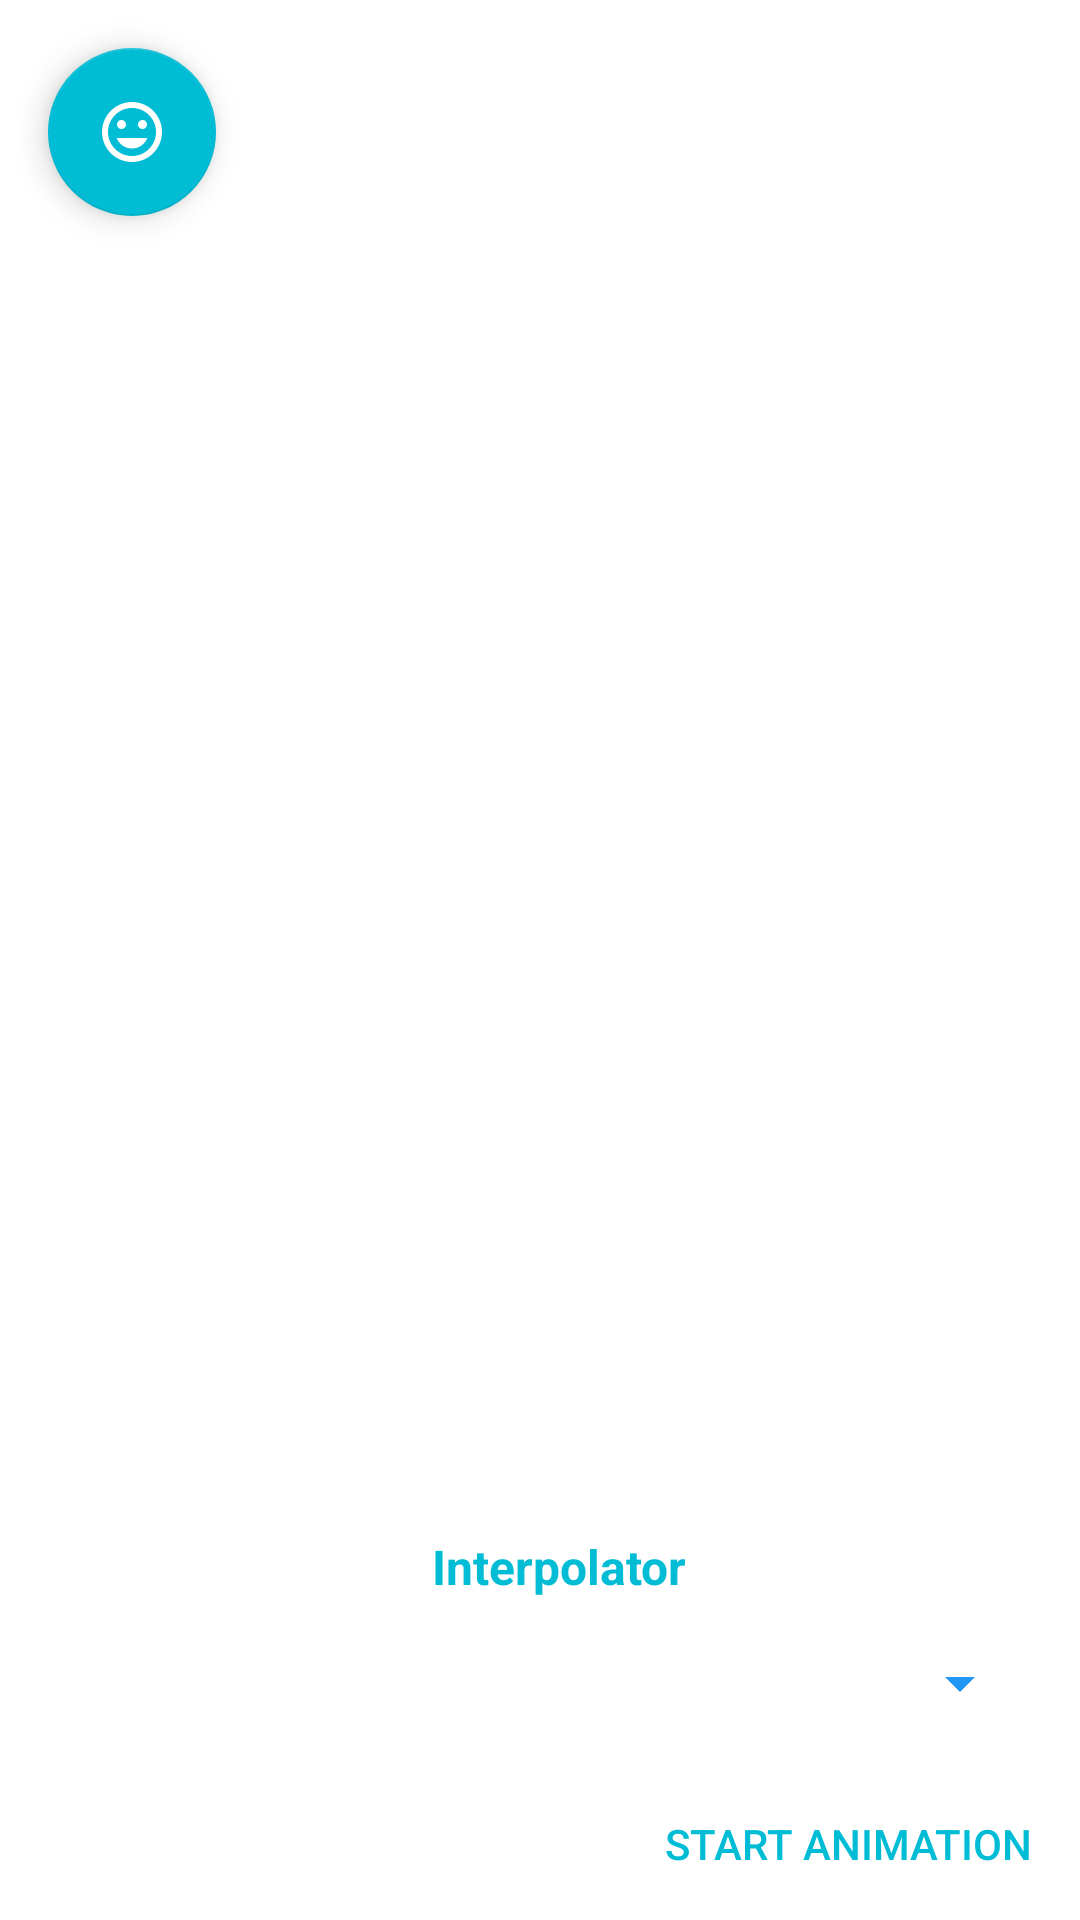

Icon click points for this 1080×1920 phone screenshot, format (x=x, y=y):
emoticon smile: (x=132, y=132)
